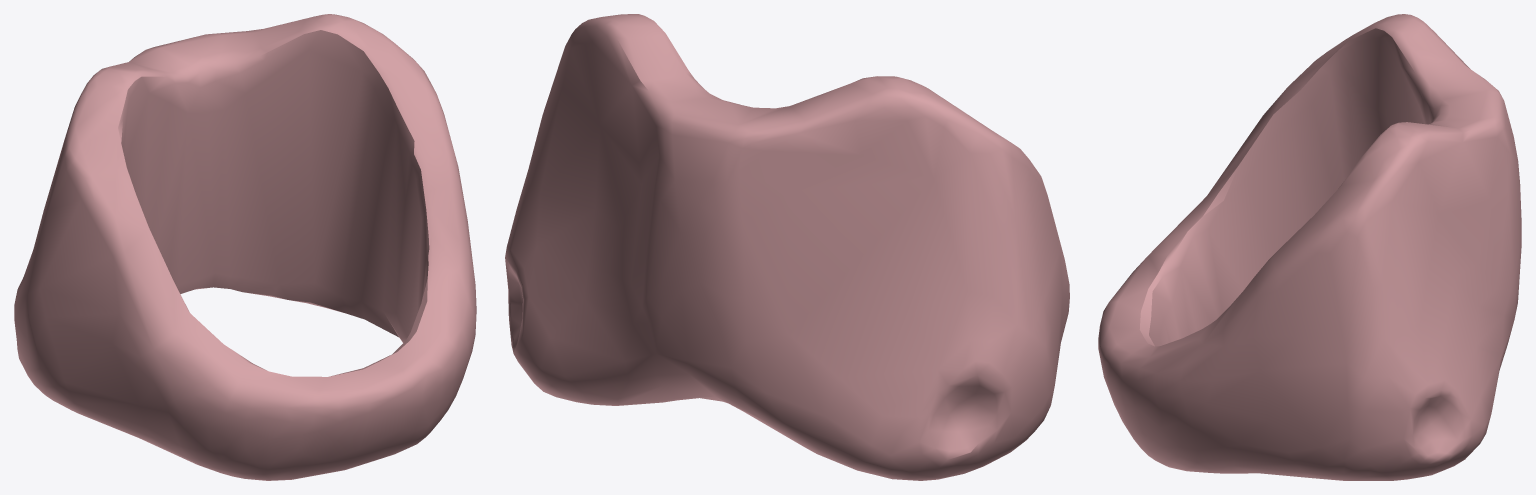
Rendered from fma9615_fj2440.glb.
3 renders of one model, left to right at view 1: azimuth 30°, elevation 25°; view 2: azimuth 150°, elevation 25°; view 3: azimuth 270°, elevation 25°, orthographic. The views are drawn at different scales.
Parts seen in each view (by area): view 1: FMA9615_FJ2440; view 2: FMA9615_FJ2440; view 3: FMA9615_FJ2440.
Boxes of the visible parts, x1,y1,x2,y2 form: FMA9615_FJ2440: (14,14,476,480); FMA9615_FJ2440: (505,14,1069,480); FMA9615_FJ2440: (1098,14,1521,480).
Size of the model in its own units: 0.023 by 0.0175 by 0.0189.
